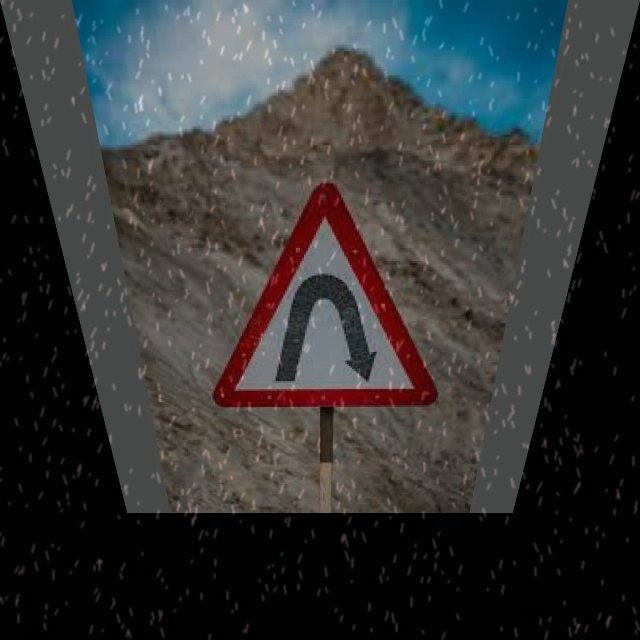Right_Hair_Pin_Bend: (207, 188, 463, 404)
